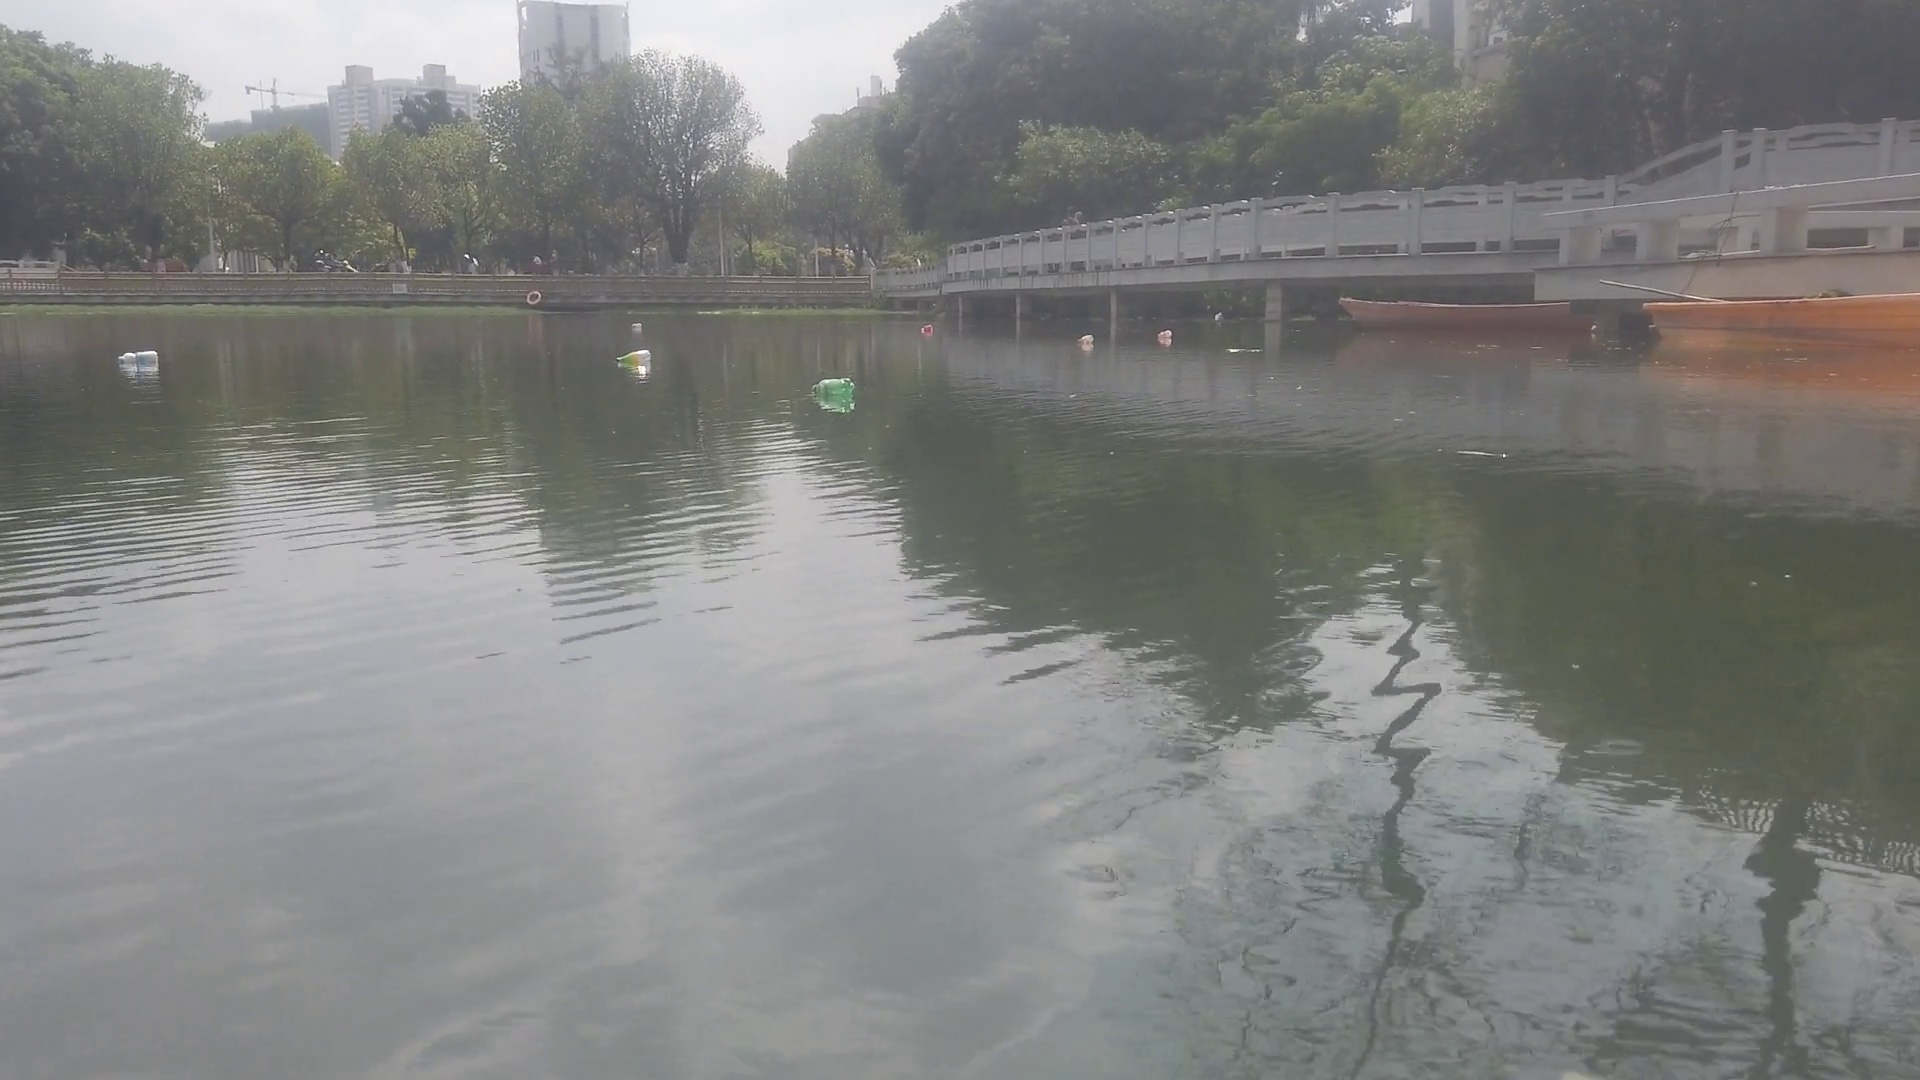bottle: (808, 375, 858, 396), (113, 347, 162, 365), (612, 348, 655, 365), (1072, 332, 1096, 347), (919, 320, 936, 338), (1155, 328, 1172, 344), (628, 319, 641, 328)
paper: (1222, 345, 1269, 363)
